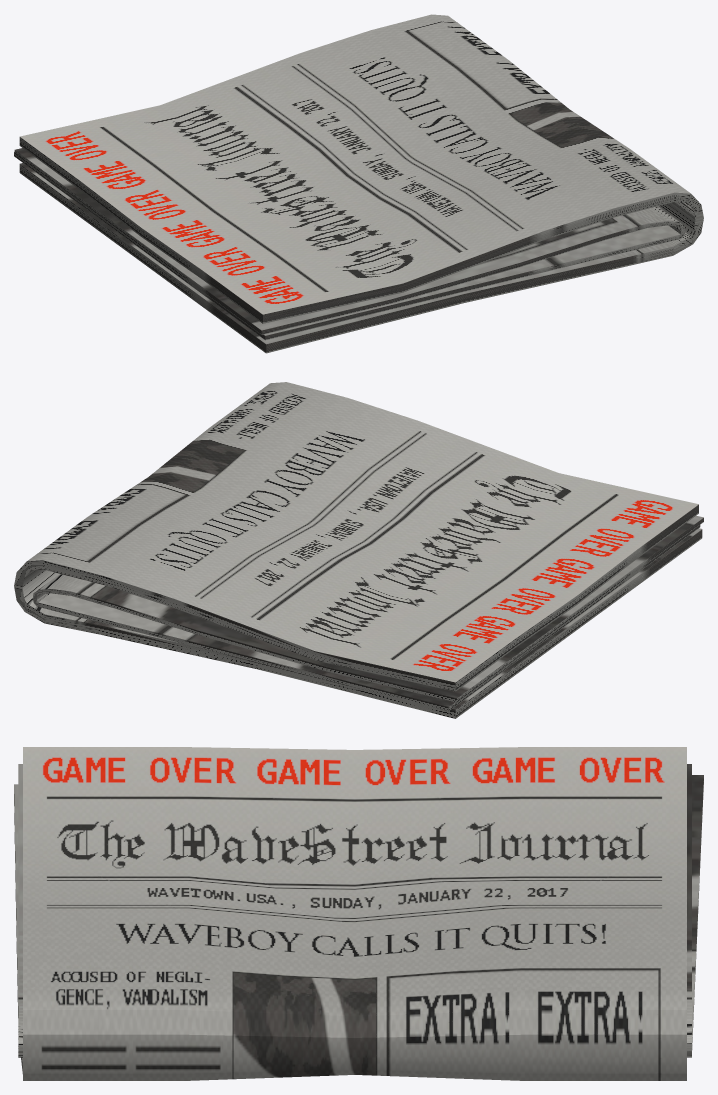
Rendered from newspaper_gameover.fbx.
3 renders of one model, top to bottom at view 1: azimuth 30°, elevation 25°; view 2: azimuth 150°, elevation 25°; view 3: azimuth 270°, elevation 25°, orthographic. The views are drawn at different scales.
Visible parts, largest first — view 1: pCube8; view 2: pCube8; view 3: pCube8.
Boxes of the visible parts, <box> form: pCube8: <box>14,14,703,353</box>; pCube8: <box>14,382,703,718</box>; pCube8: <box>14,747,703,1080</box>.
Size of the model in its own units: 6.47 by 0.8752 by 6.38.
